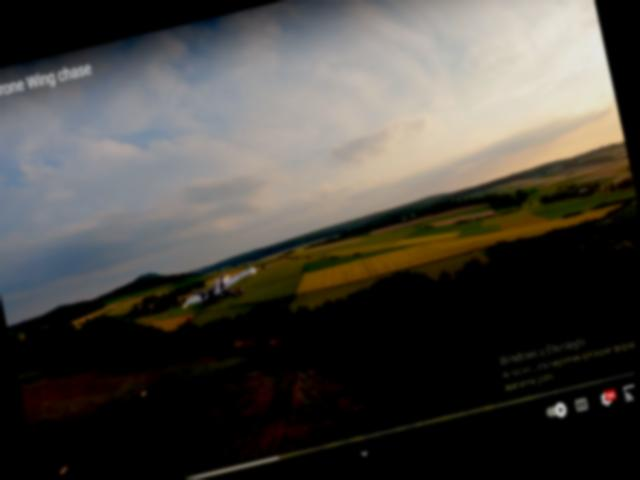plane: (177, 265, 261, 314)
